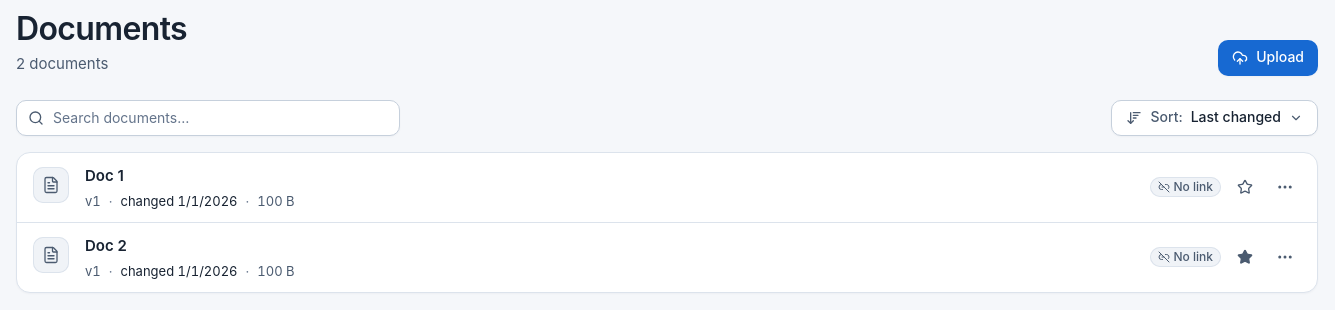
Home › asks for more input instead of showing incomplete local title results
Expected: the number of links "Doc 1" is 2, [85,166,124,185]; [85,236,127,255]
In the search field: [208, 118] box [16,100,400,136], type "t"
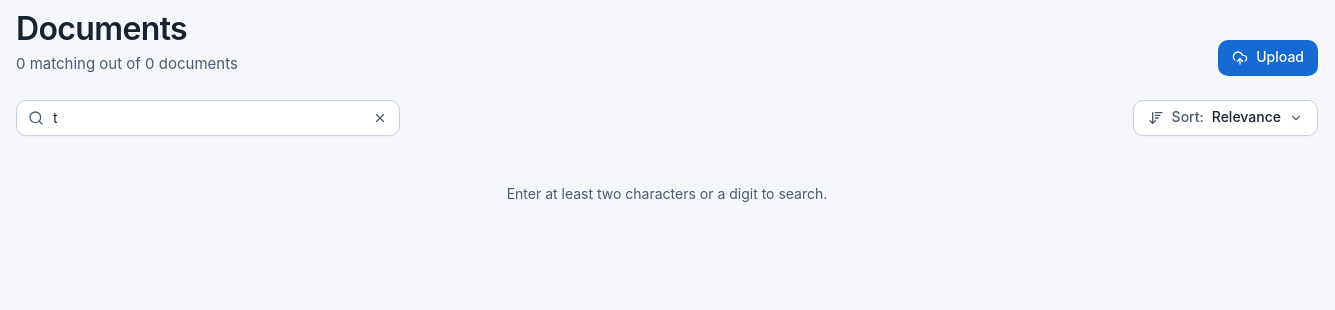
Now the message shows "Enter at least two characters", box [507,185,827,202]
Now no links "Doc 1" are shown
